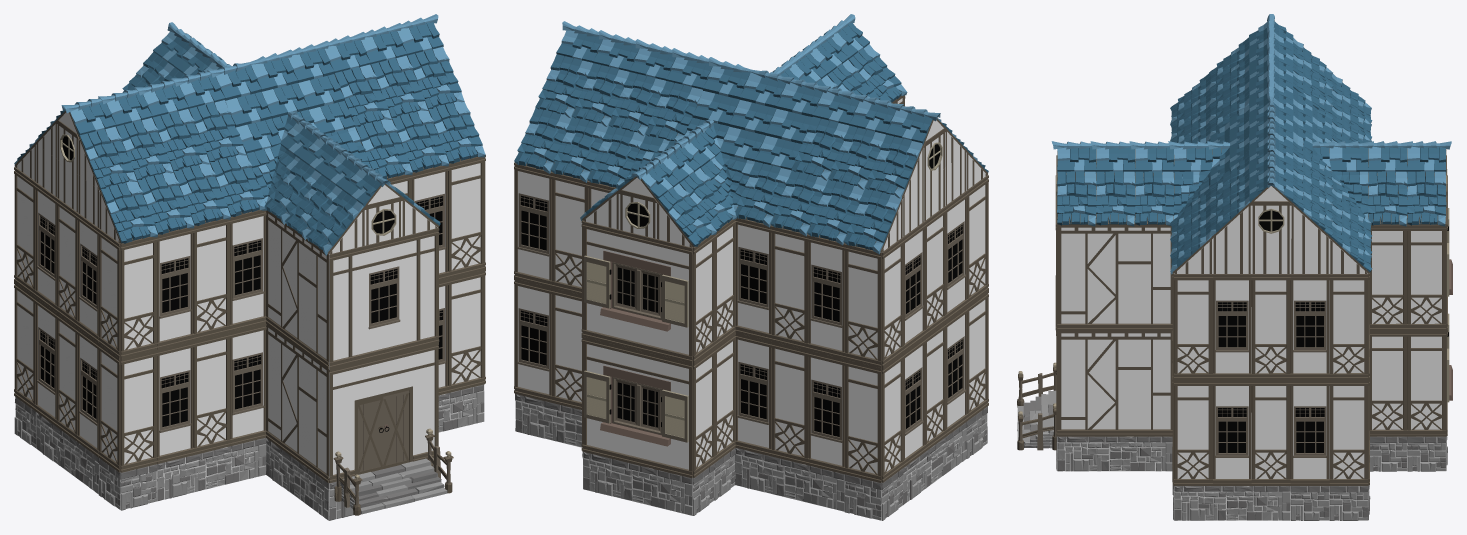
Rendered from House_18_Full.fbx.
3 views of the same model, side by side, from view 1: azimuth 30°, elevation 25°; view 2: azimuth 150°, elevation 25°; view 3: azimuth 270°, elevation 25° (orthographic). The views are drawn at different scales.
Visible parts, largest first — view 1: WINDOW_03_2, DOOR_03_1, WALL_05_2, WALL_05_3, STAIRS_03_3, WALL_04_5, WALL_04_4, WALL_04_6, WALL_04_3, WINDOW_04_5, WALL_04_9, WINDOW_04_4 (+70 smaller); view 2: WINDOW_06_1.001, WINDOW_06_1, WALL_04_17, WALL_04_18, WALL_04_19, WINDOW_04_15, WINDOW_04_19, WALL_04_20, WINDOW_04_16, WINDOW_04_20, FOUNDATION_02_33, FOUNDATION_02_34 (+73 smaller); view 3: WALL_05_5, WALL_05_4, WINDOW_04_22, WALL_04_24, WALL_04_25, WALL_04_36, WALL_04_34, WINDOW_04_23, WALL_04_27, WALL_04_26, FOUNDATION_02_30, WINDOW_04_21 (+61 smaller).
Part boxes in pixels (x1,y1,x2,y2): WINDOW_03_2: (329, 228, 439, 369); DOOR_03_1: (329, 343, 438, 483); WALL_05_2: (266, 324, 329, 482); WALL_05_3: (266, 210, 329, 368); STAIRS_03_3: (333, 428, 453, 515); WALL_04_5: (120, 236, 157, 358); WALL_04_4: (120, 350, 157, 472); WALL_04_6: (193, 219, 230, 340); WALL_04_3: (193, 332, 230, 454); WINDOW_04_5: (157, 227, 194, 349); WALL_04_9: (448, 157, 485, 278); WINDOW_04_4: (157, 341, 194, 463); WINDOW_06_1.001: (582, 221, 692, 363); WINDOW_06_1: (582, 336, 692, 478); WALL_04_17: (771, 226, 808, 350); WALL_04_18: (771, 341, 808, 464); WALL_04_19: (844, 243, 881, 367); WINDOW_04_15: (807, 234, 844, 358); WINDOW_04_19: (514, 163, 551, 287); WALL_04_20: (844, 359, 881, 482); WINDOW_04_16: (807, 350, 844, 473); WINDOW_04_20: (514, 279, 551, 402); FOUNDATION_02_33: (583, 452, 692, 515); FOUNDATION_02_34: (735, 448, 844, 511); WALL_05_5: (1057, 330, 1172, 436); WALL_05_4: (1057, 224, 1172, 330); WINDOW_04_22: (1290, 274, 1329, 380); WALL_04_24: (1251, 274, 1290, 380); WALL_04_25: (1329, 274, 1368, 380); WALL_04_36: (1407, 224, 1446, 330); WALL_04_34: (1407, 331, 1446, 436); WINDOW_04_23: (1290, 380, 1329, 485); WALL_04_27: (1251, 380, 1290, 485); WALL_04_26: (1329, 380, 1368, 485); FOUNDATION_02_30: (1057, 436, 1172, 471); WINDOW_04_21: (1213, 274, 1251, 380).
Size of the model in its own units: 1029 by 965 by 1121.
